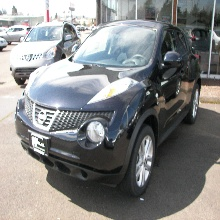no damage: (14, 20, 202, 198), (10, 20, 81, 85), (1, 24, 30, 43)
